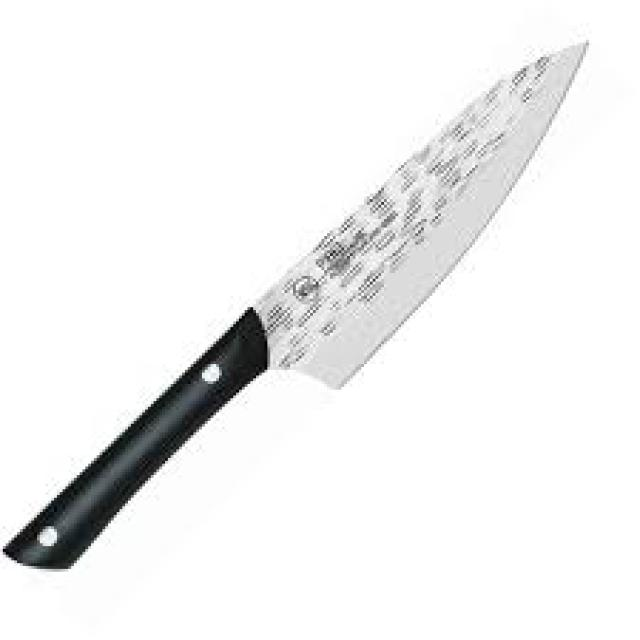knife: (3, 35, 598, 584)
